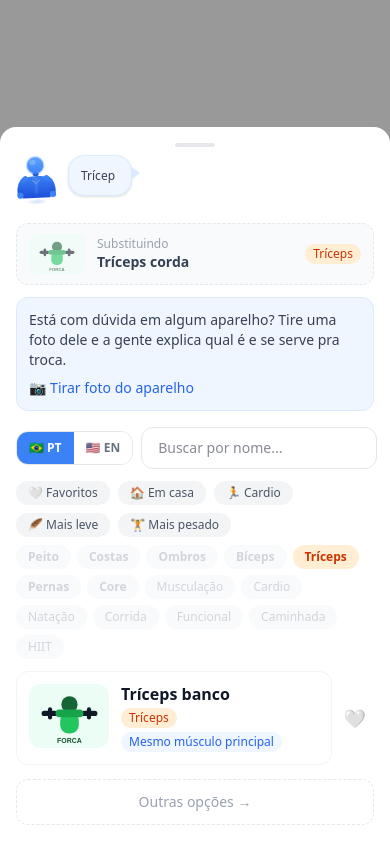
Scenario: SwapModal timeout handling › contains a swap timeout and shows an inline retryable error
What coordinates should you click on to do the following:
click the button "Tríceps banco"
I would click on:
 (174, 718)
Its box is [16,671,332,765].
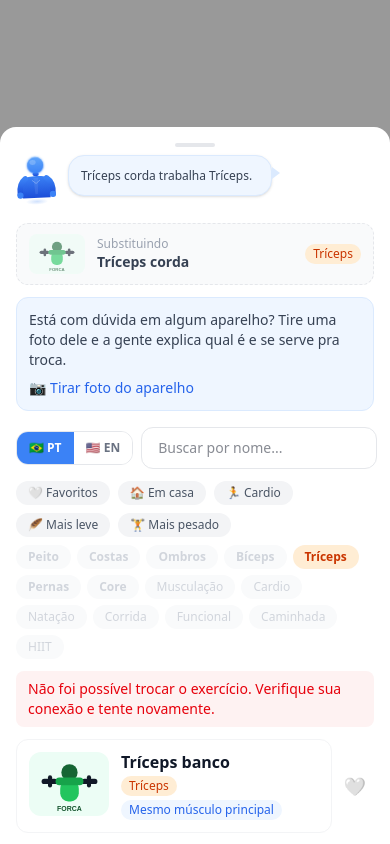
Now the text "Não foi possível trocar o exercício" is shown, box [28,679,341,718]
